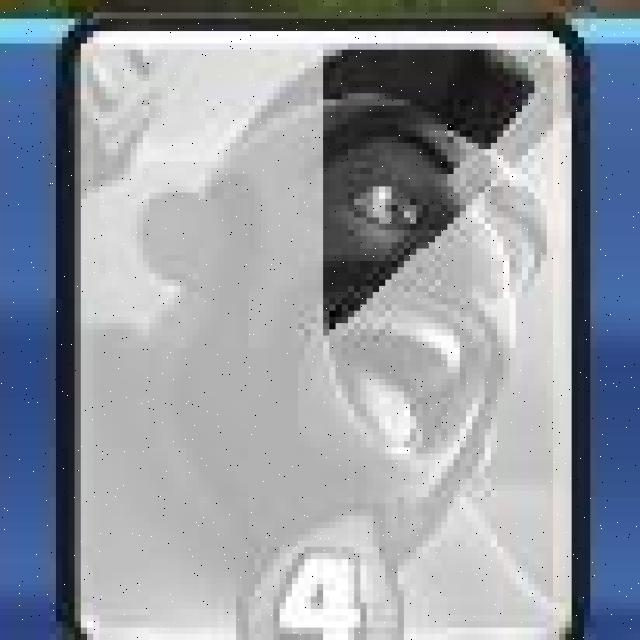Hog_Rider: (61, 10, 589, 640)
